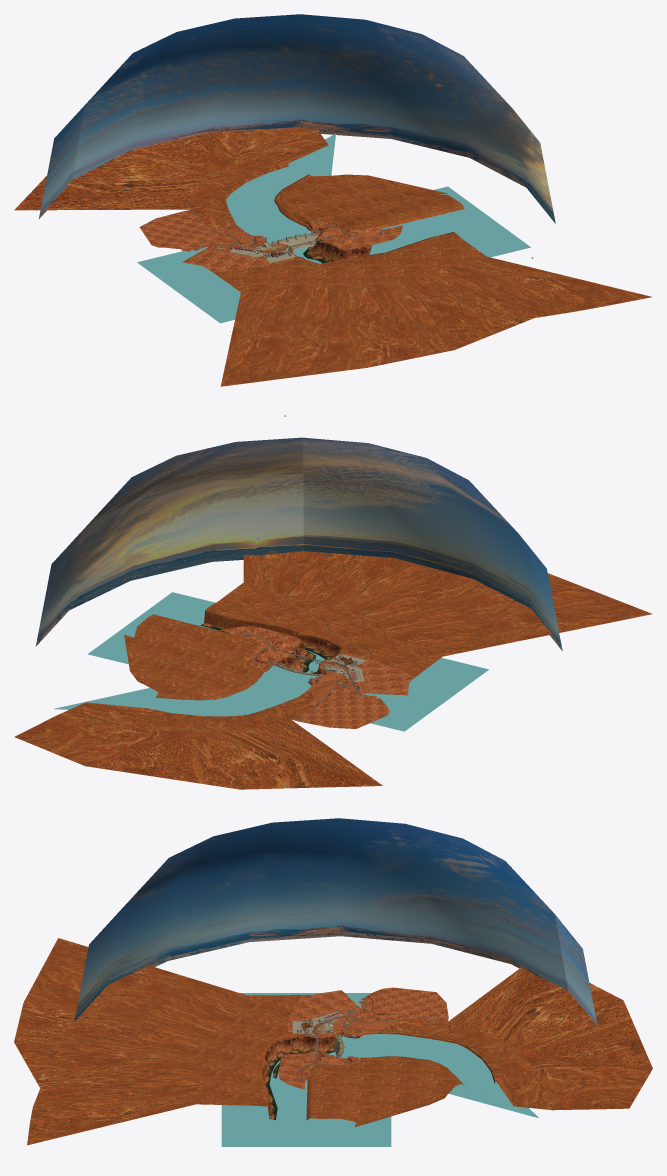
Rendered from gt_racing_2_-_glen_canyon_dam-compressed.glb.
The picture shows the model from 3 angles, top to bottom: view 1: azimuth 30°, elevation 25°; view 2: azimuth 150°, elevation 25°; view 3: azimuth 270°, elevation 25°; orthographic projection.
Parts seen in each view (by area): view 1: ENV, Sky_Last_skybox, water2, ENV002, water1, ENV001, Track_2; view 2: ENV, Sky_Last_skybox, ENV002, water2, water1, ENV001; view 3: ENV, Sky_Last_skybox, water2, ENV002, water1, ENV001, Road_road.
Part boxes in pixels (x1,y1,x2,y2): ENV: [14, 128, 652, 386]; Sky_Last_skybox: [38, 14, 555, 223]; water2: [137, 186, 530, 323]; ENV002: [139, 209, 403, 272]; water1: [226, 133, 335, 242]; ENV001: [262, 235, 371, 263]; Track_2: [217, 231, 319, 250]; ENV: [14, 551, 652, 789]; Sky_Last_skybox: [35, 437, 562, 650]; ENV002: [220, 626, 415, 728]; water2: [88, 592, 488, 731]; water1: [54, 665, 317, 716]; ENV001: [200, 622, 338, 681]; ENV: [14, 938, 652, 1145]; Sky_Last_skybox: [74, 818, 597, 1025]; water2: [221, 993, 391, 1146]; ENV002: [278, 987, 448, 1089]; water1: [339, 1034, 538, 1118]; ENV001: [264, 1033, 359, 1119]; Road_road: [297, 1001, 447, 1080].
Bounding box in the file's own units: 5022 × 2244 × 6013.
Materials: 18 (18 with a texture image).
